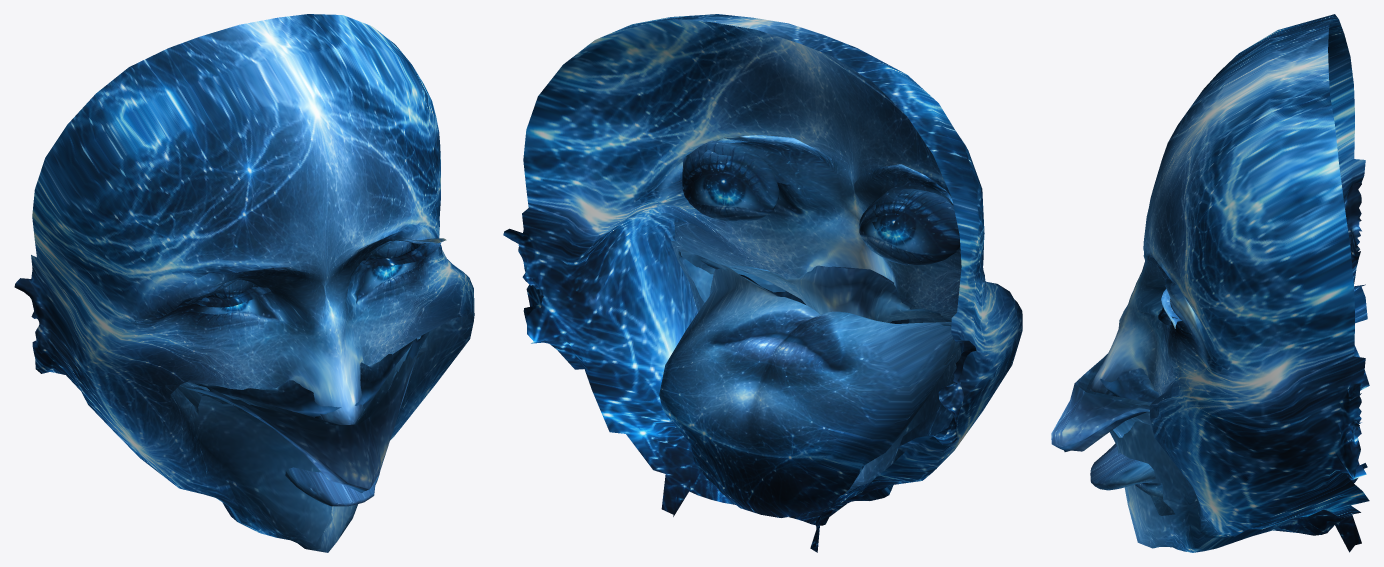
File: user-mask.glb
The picture shows the model from 3 angles, left to right: view 1: azimuth 30°, elevation 25°; view 2: azimuth 150°, elevation 25°; view 3: azimuth 270°, elevation 25°; orthographic projection. The views are drawn at different scales.
Visible parts, largest first — view 1: UserAcceptedMask; view 2: UserAcceptedMask; view 3: UserAcceptedMask.
Part boxes in pixels (x1=…): UserAcceptedMask: x1=14, y1=14, x2=474, y2=552; UserAcceptedMask: x1=503, y1=14, x2=1022, y2=552; UserAcceptedMask: x1=1051, y1=14, x2=1369, y2=552.
Size of the model in its own units: 0.2346 by 0.2474 by 0.1447.
Materials: 1 (1 with a texture image).
